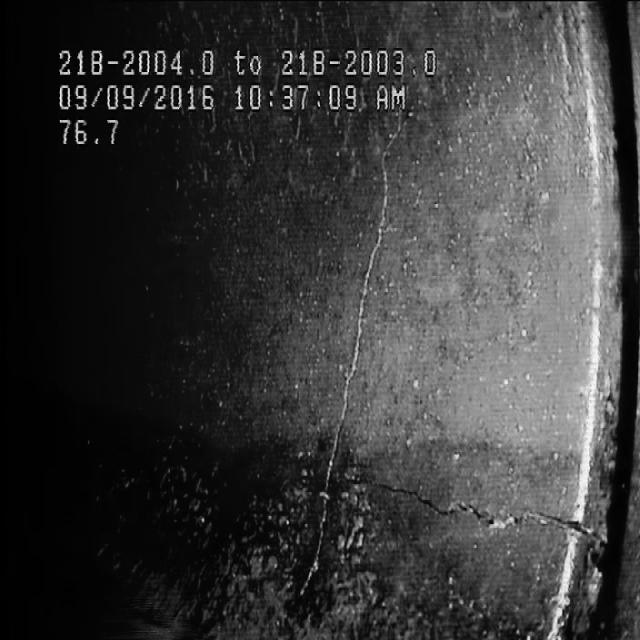Crack: (300, 172, 390, 560), (407, 461, 561, 556)
